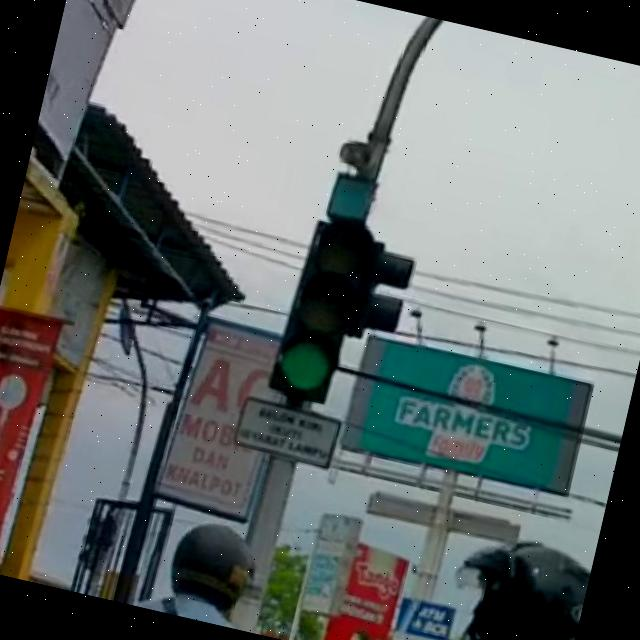green_light: (266, 209, 378, 406)
